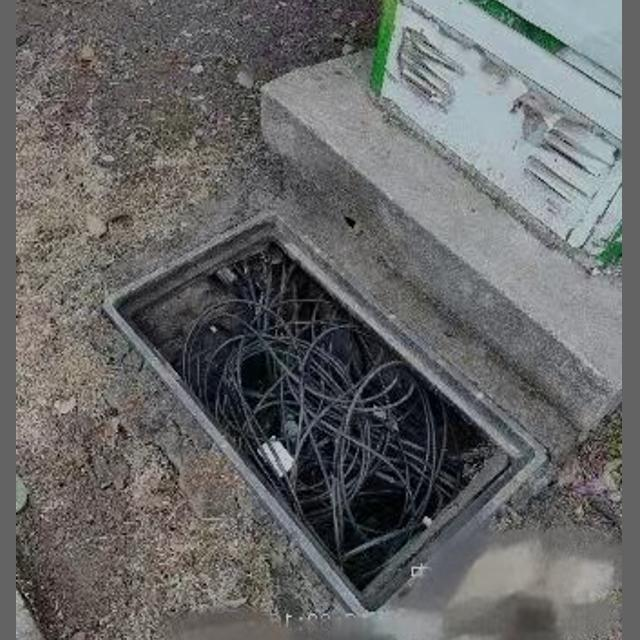lose: (100, 226, 554, 521)
